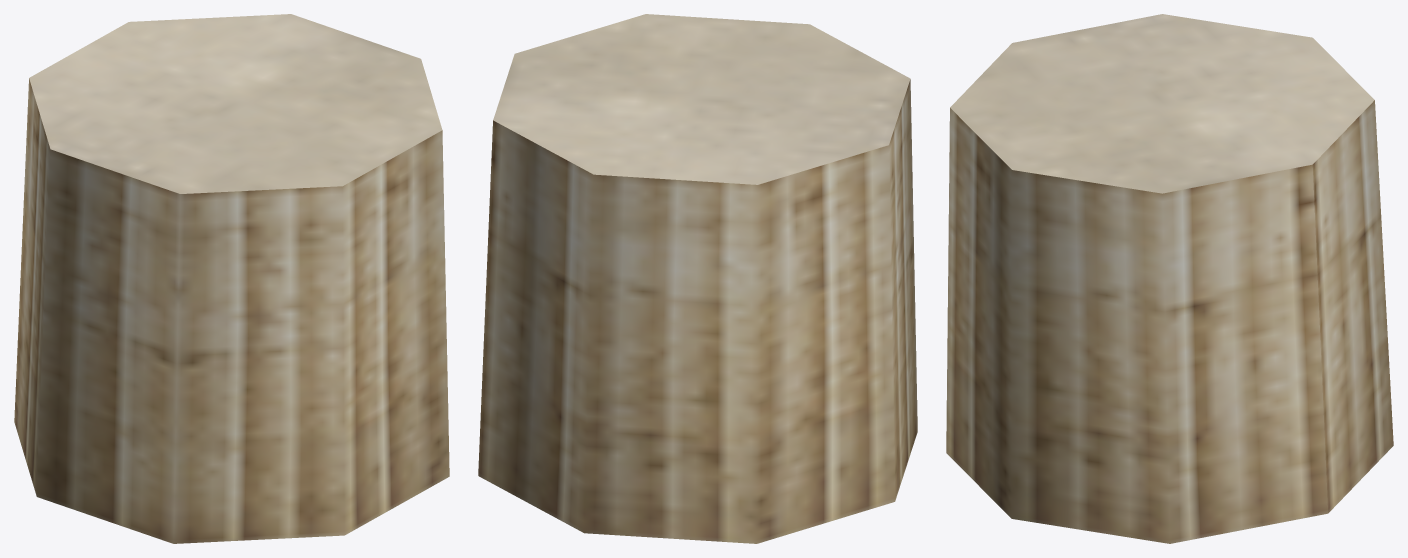
The model's file is column_fallen_f.dae.
The picture shows the model from 3 angles, left to right: view 1: azimuth 30°, elevation 25°; view 2: azimuth 150°, elevation 25°; view 3: azimuth 270°, elevation 25°; orthographic projection.
Parts seen in each view (by area): view 1: column_fallen_f; view 2: column_fallen_f; view 3: column_fallen_f.
Boxes of the visible parts, box(x1,y1,x2,y2) form: column_fallen_f: box(14, 14, 449, 543); column_fallen_f: box(478, 14, 917, 543); column_fallen_f: box(946, 14, 1393, 543).
Size of the model in its own units: 1.63 by 1.62 by 1.41.
